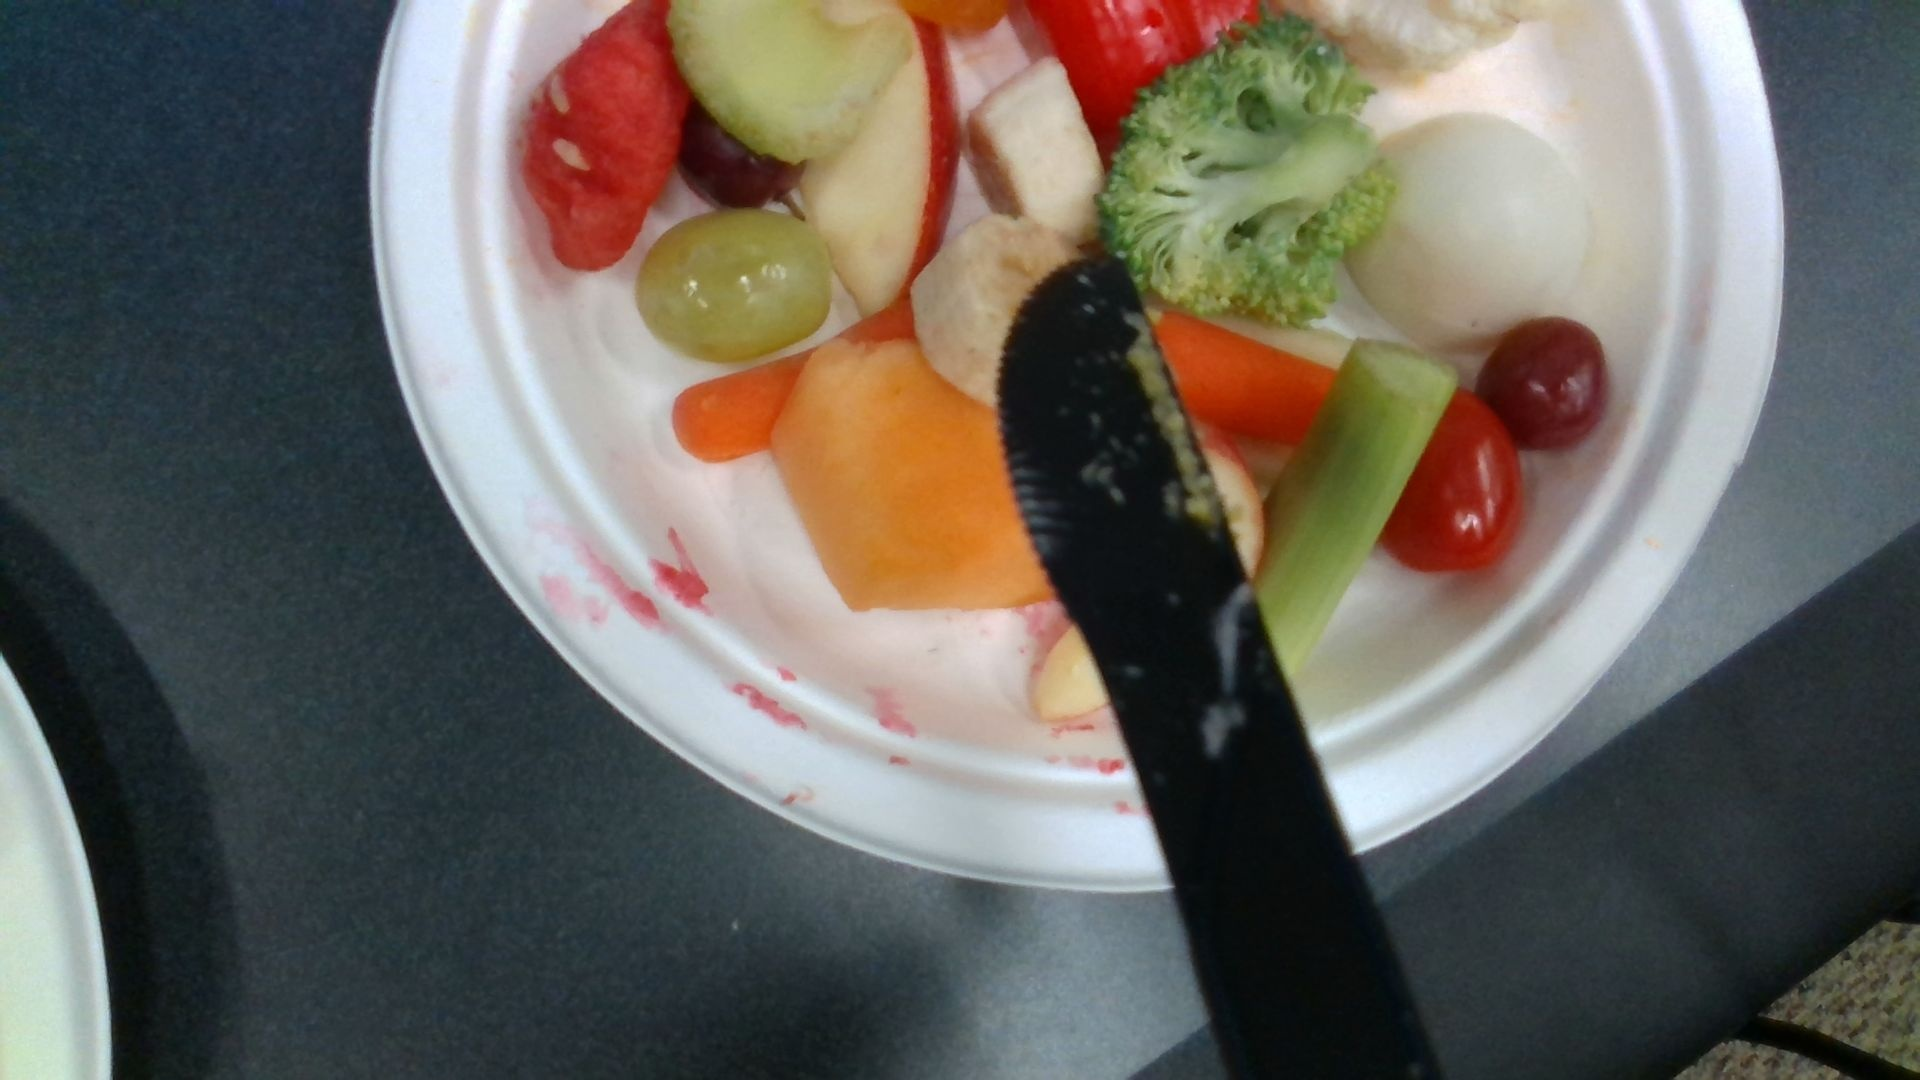apple: (1042, 433, 1262, 723), (795, 18, 959, 315)
banana: (909, 222, 1069, 404)
bell_pepper: (1033, 1, 1261, 160)
broccoli: (1106, 18, 1393, 320)
cantalope: (769, 342, 1064, 611)
carrot: (670, 301, 916, 460), (1145, 310, 1337, 440)
celery: (1251, 340, 1458, 680), (669, 1, 909, 164)
cherry_tomato: (1374, 386, 1524, 571)
egg: (1344, 116, 1585, 343)
grape_green: (640, 211, 829, 360)
grape_purple: (1476, 320, 1607, 451)
melon: (522, 1, 678, 268)
